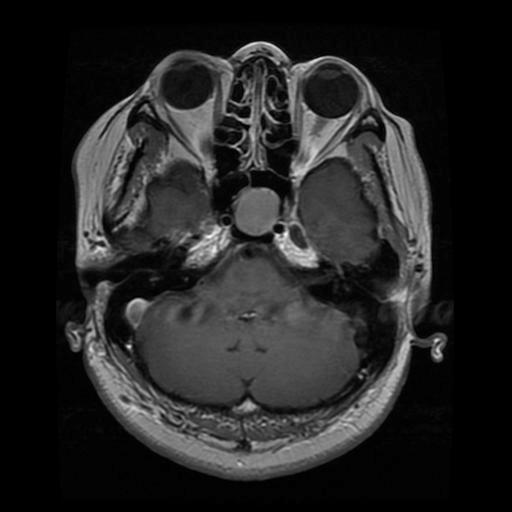Tumour-Pituitary: (230, 187, 288, 241)
